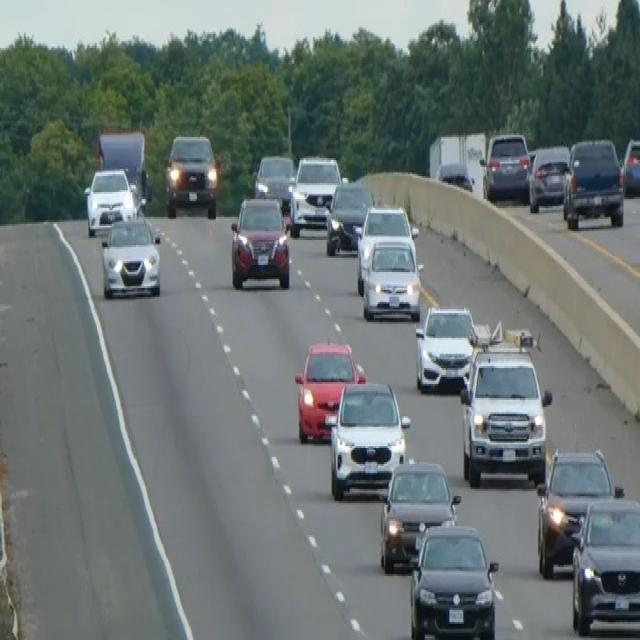car: (535, 446, 621, 578), (408, 519, 499, 638), (326, 378, 410, 499), (569, 492, 639, 634), (378, 457, 460, 572), (294, 338, 366, 442), (229, 194, 290, 290), (562, 135, 624, 229), (414, 302, 477, 393), (355, 202, 417, 292), (361, 235, 422, 322), (100, 213, 161, 299), (164, 132, 218, 218), (289, 153, 342, 236), (83, 166, 136, 237), (324, 178, 373, 254), (480, 130, 531, 202), (527, 142, 570, 212), (253, 151, 295, 210), (436, 160, 474, 192), (622, 135, 639, 196)
jeep: (458, 318, 552, 489)
lorry: (94, 126, 151, 210)
